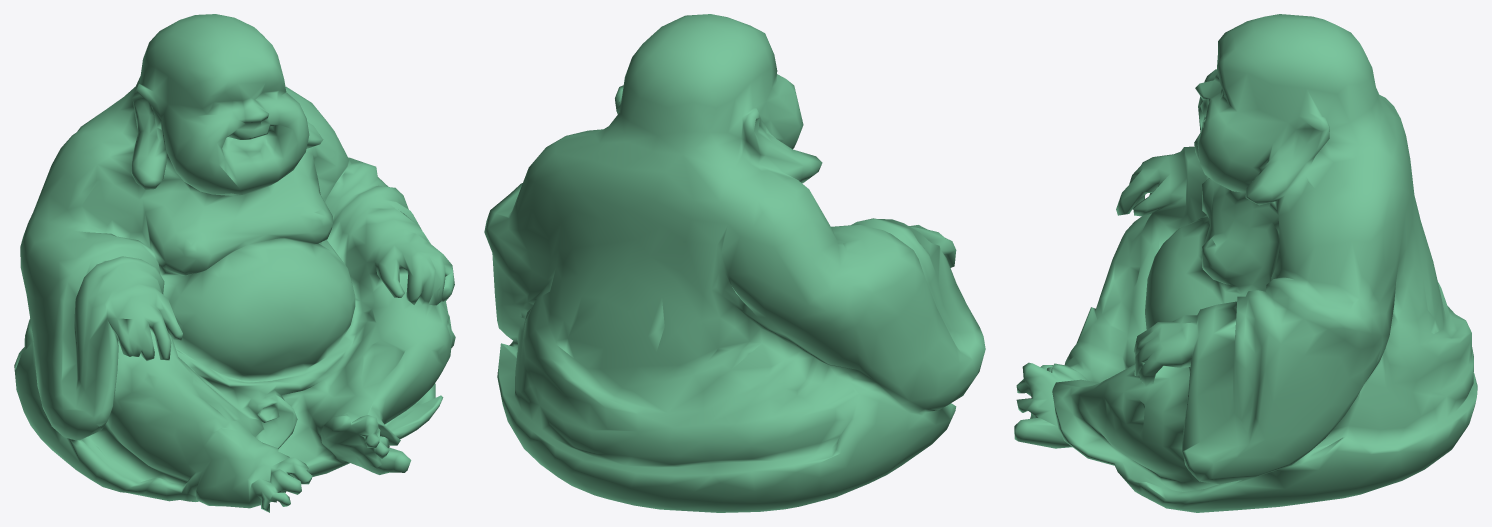
The model's file is mile.glb.
3 renders of one model, left to right at view 1: azimuth 30°, elevation 25°; view 2: azimuth 150°, elevation 25°; view 3: azimuth 270°, elevation 25°, orthographic. The views are drawn at different scales.
Parts seen in each view (by area): view 1: tripo_node_17326591-ef1f-4542-87da-dd559080f1e3; view 2: tripo_node_17326591-ef1f-4542-87da-dd559080f1e3; view 3: tripo_node_17326591-ef1f-4542-87da-dd559080f1e3.
Part boxes in pixels (bbox=[...]): tripo_node_17326591-ef1f-4542-87da-dd559080f1e3: bbox=[14, 14, 455, 512]; tripo_node_17326591-ef1f-4542-87da-dd559080f1e3: bbox=[484, 14, 985, 512]; tripo_node_17326591-ef1f-4542-87da-dd559080f1e3: bbox=[1014, 14, 1477, 512].
Bounding box in the file's own units: 1 × 0.9679 × 0.9584.
